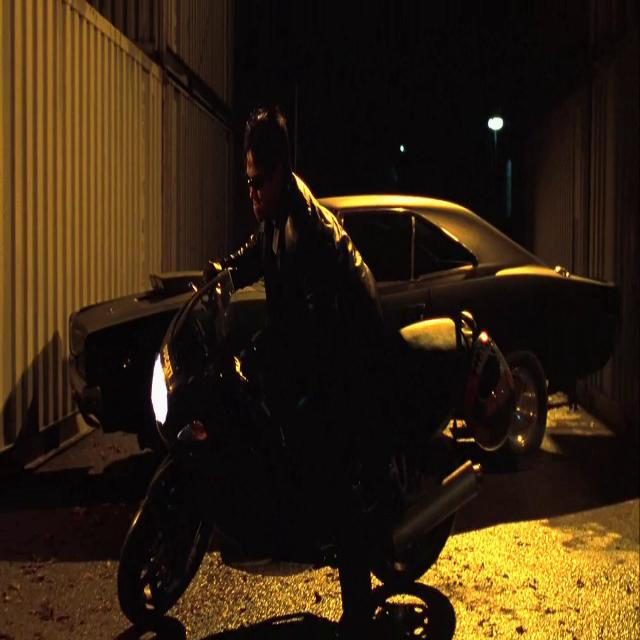Motorbike: (117, 278, 514, 640)
